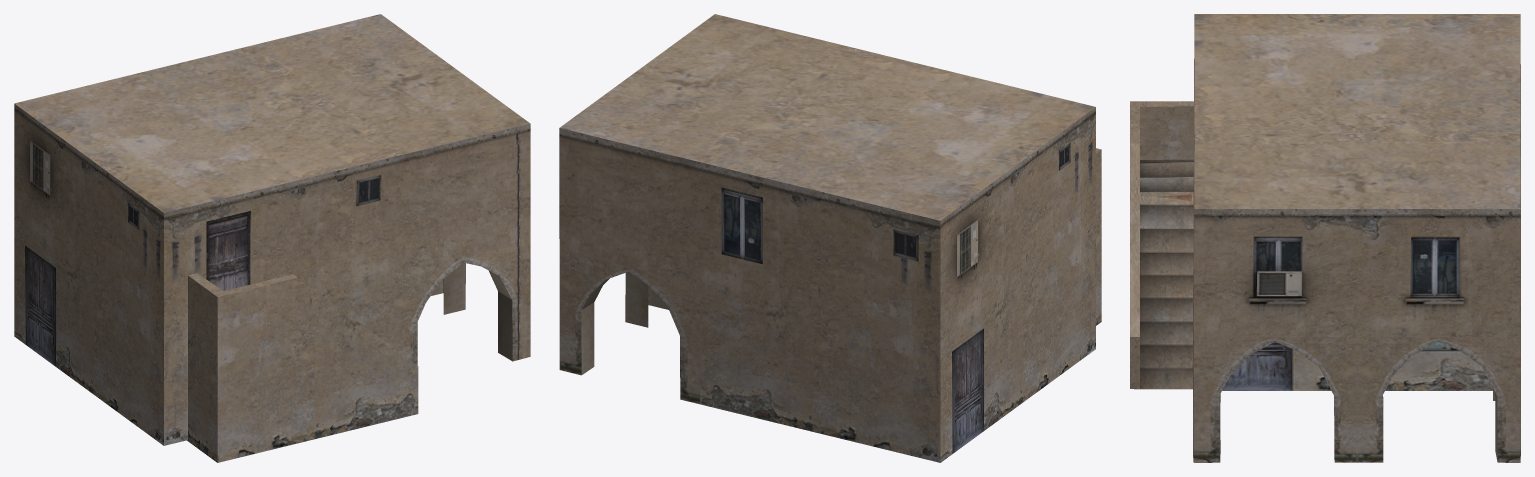
Rendered from building04.fbx.
3 renders of one model, left to right at view 1: azimuth 30°, elevation 25°; view 2: azimuth 150°, elevation 25°; view 3: azimuth 270°, elevation 25°, orthographic. The views are drawn at different scales.
Visible parts, largest first — view 1: polySurface5; view 2: polySurface5; view 3: polySurface5.
Part boxes in pixels (left/top/right/bottom): polySurface5: left=14, top=14, right=530, bottom=462; polySurface5: left=559, top=14, right=1101, bottom=462; polySurface5: left=1130, top=14, right=1520, bottom=462.
Size of the model in its own units: 1030 by 630 by 873.
